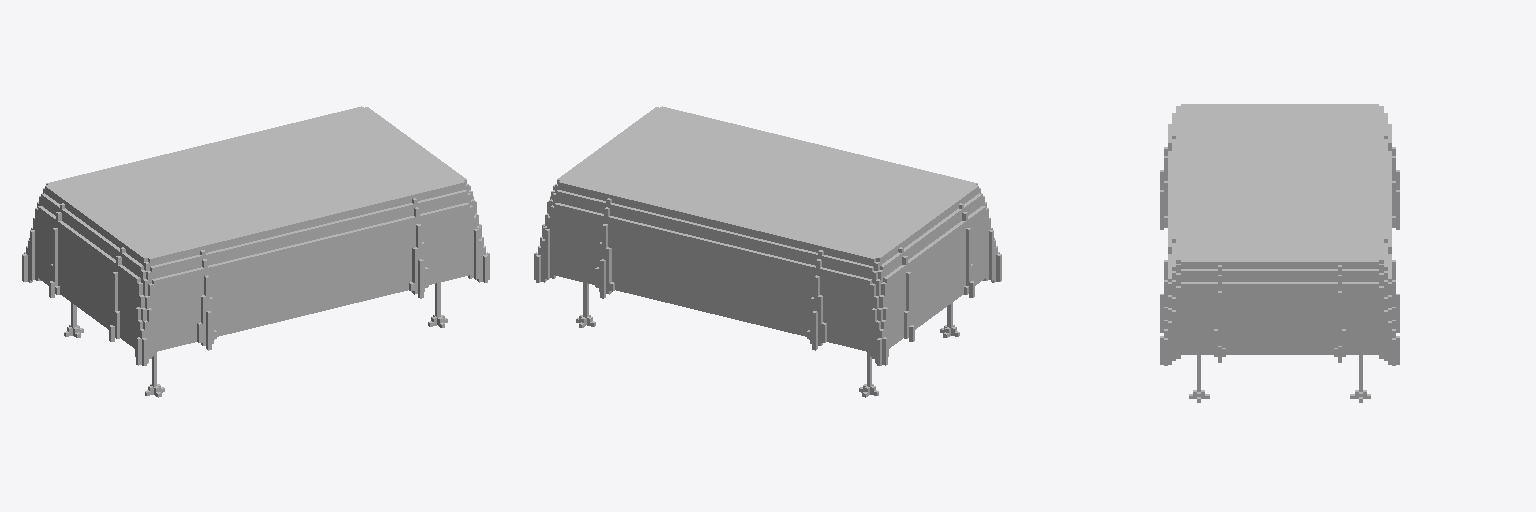
Rendered from desk.obj.
3 renders of one model, left to right at view 1: azimuth 30°, elevation 25°; view 2: azimuth 150°, elevation 25°; view 3: azimuth 270°, elevation 25°, orthographic.
Visible parts, largest first — view 1: object 1; view 2: object 1; view 3: object 1.
Boxes of the visible parts, <box> form: object 1: <box>22,106,489,397</box>; object 1: <box>534,106,1001,397</box>; object 1: <box>1160,104,1399,402</box>.
Size of the model in its own units: 9.8 by 3.9 by 5.8.